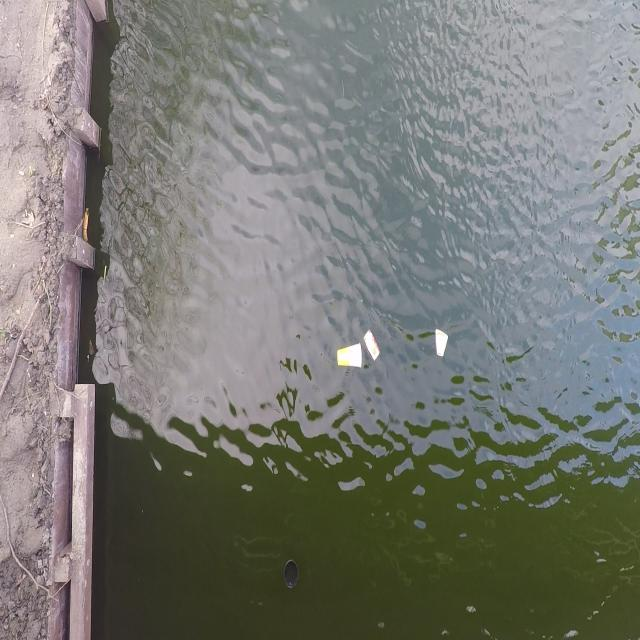Non plastique: (336, 336, 366, 375), (432, 320, 452, 367), (363, 328, 384, 359)
